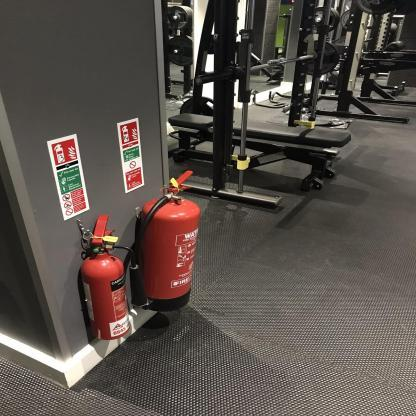Fire Extinguisher: (133, 167, 212, 317), (69, 214, 129, 343)
